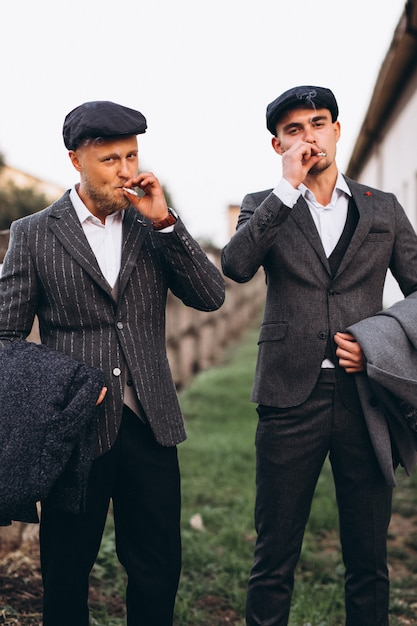cigarette: (119, 184, 140, 195), (311, 152, 328, 157)
